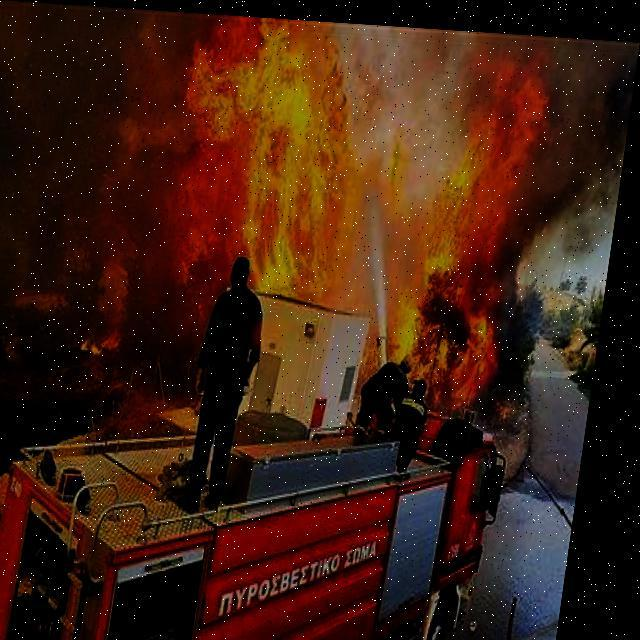Fire: (158, 19, 394, 347), (392, 88, 543, 405)
